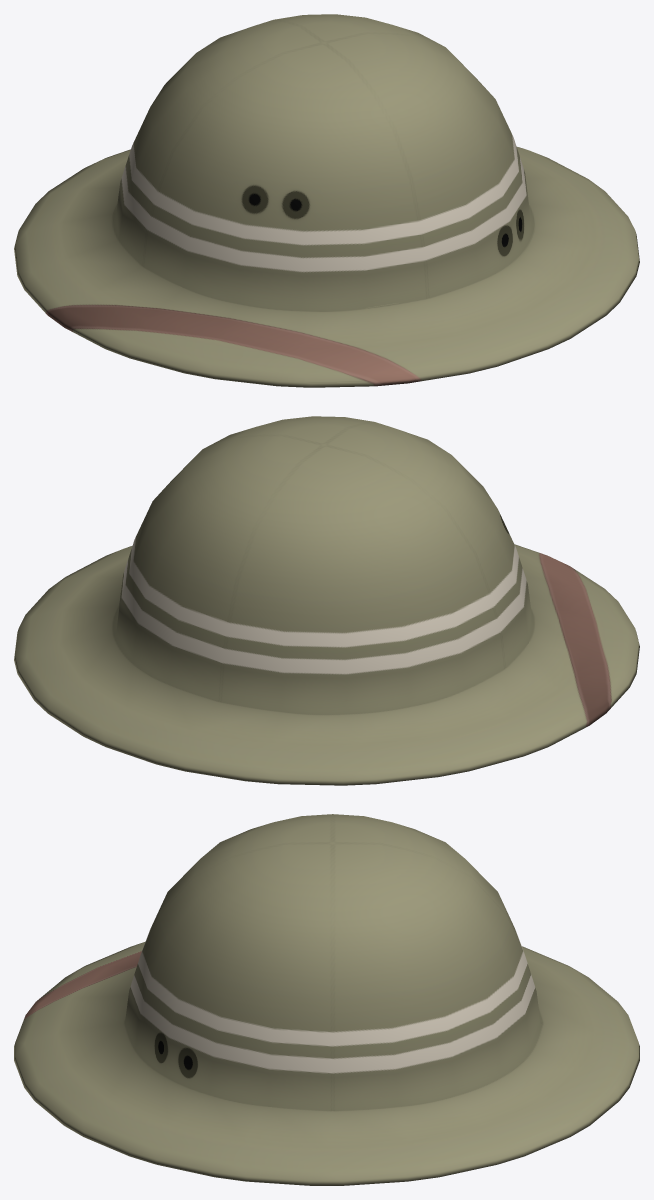
File: Explorehat.fbx
The picture shows the model from 3 angles, top to bottom: view 1: azimuth 30°, elevation 25°; view 2: azimuth 150°, elevation 25°; view 3: azimuth 270°, elevation 25°; orthographic projection.
Visible parts, largest first — view 1: Explorerhat_low; view 2: Explorerhat_low; view 3: Explorerhat_low.
Part boxes in pixels (<box>): Explorerhat_low: <box>14,14,639,387</box>; Explorerhat_low: <box>14,416,639,785</box>; Explorerhat_low: <box>14,814,639,1185</box>.
Bounding box in the file's own units: 54.54 × 20.28 × 54.56.
